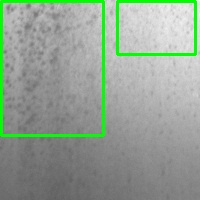pitted_surface: (1, 1, 103, 135), (117, 1, 195, 54)
